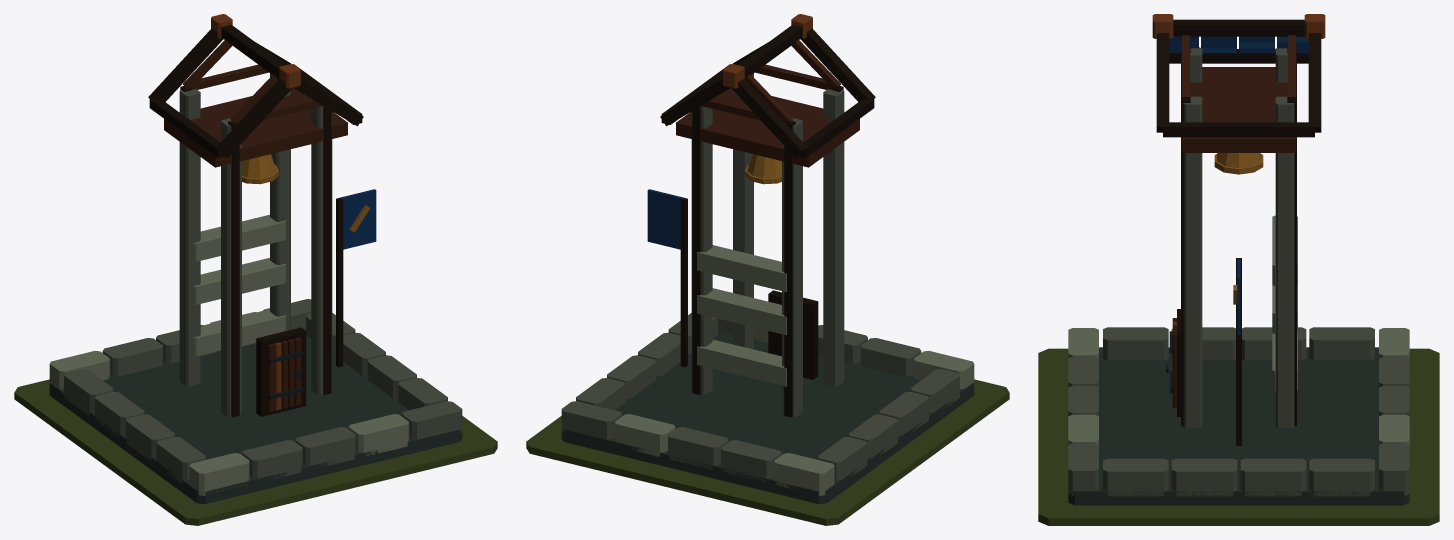
File: bell-tower_t4.glb
The picture shows the model from 3 angles, left to right: view 1: azimuth 30°, elevation 25°; view 2: azimuth 150°, elevation 25°; view 3: azimuth 270°, elevation 25°; orthographic projection. The views are drawn at different scales.
Visible parts, largest first — view 1: MMR | bell-tower | T04 Architecture.001, MMR | bell-tower | Tier 04 Ground.001; view 2: MMR | bell-tower | T04 Architecture.001, MMR | bell-tower | Tier 04 Ground.001; view 3: MMR | bell-tower | T04 Architecture.001, MMR | bell-tower | Tier 04 Ground.001.
Boxes of the visible parts, bbox=[...] form: MMR | bell-tower | T04 Architecture.001: bbox=[49, 14, 462, 503]; MMR | bell-tower | Tier 04 Ground.001: bbox=[14, 379, 497, 525]; MMR | bell-tower | T04 Architecture.001: bbox=[561, 14, 974, 503]; MMR | bell-tower | Tier 04 Ground.001: bbox=[526, 379, 1009, 525]; MMR | bell-tower | T04 Architecture.001: bbox=[1068, 14, 1409, 505]; MMR | bell-tower | Tier 04 Ground.001: bbox=[1038, 348, 1439, 525].
Size of the model in its own units: 2.35 by 2.73 by 2.35.
1 material, 1 textured.
